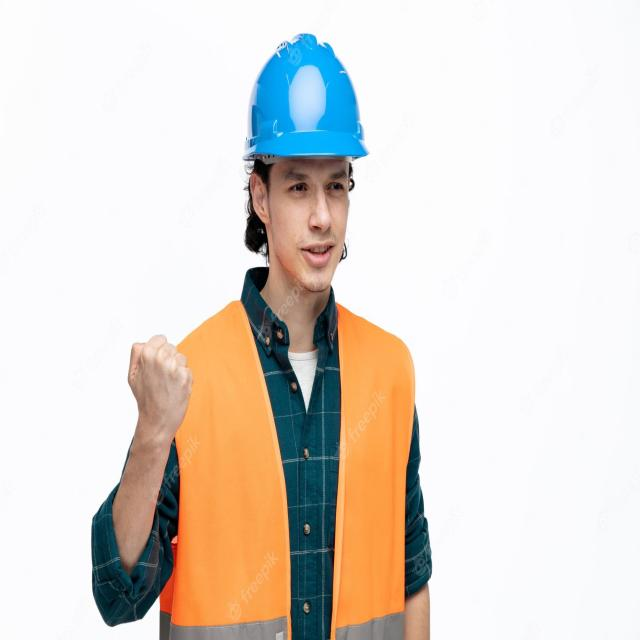helmet: (235, 34, 371, 164)
no-goggles: (248, 162, 358, 198)
vest: (169, 282, 415, 640)
